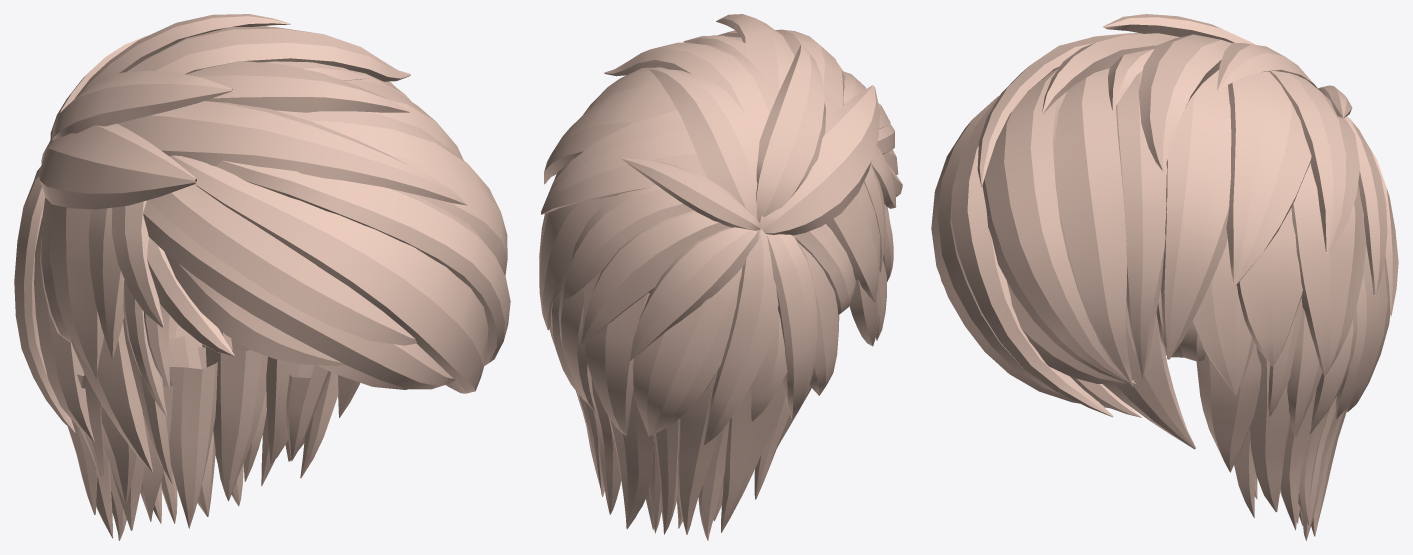
File: Hair_10.fbx
3 views of the same model, side by side, from view 1: azimuth 30°, elevation 25°; view 2: azimuth 150°, elevation 25°; view 3: azimuth 270°, elevation 25° (orthographic). The views are drawn at different scales.
Visible parts, largest first — view 1: Hair_10; view 2: Hair_10; view 3: Hair_10.
Boxes of the visible parts, box(x1,y1,x2,y2) form: Hair_10: box(14, 14, 510, 540); Hair_10: box(539, 14, 902, 540); Hair_10: box(931, 14, 1398, 540).
Size of the model in its own units: 1.97 by 2.72 by 2.43.
